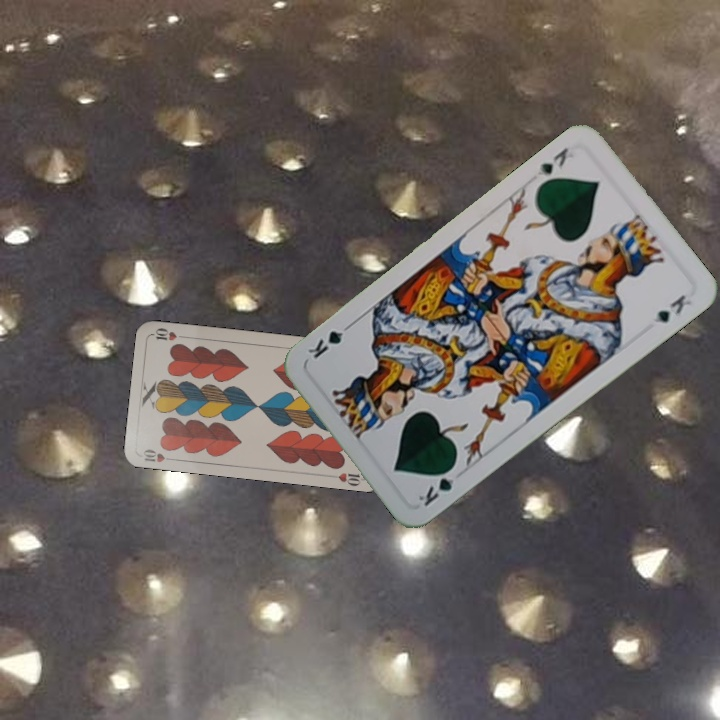GK: (412, 461, 459, 510), (533, 143, 571, 182)
H10: (140, 445, 178, 465)
